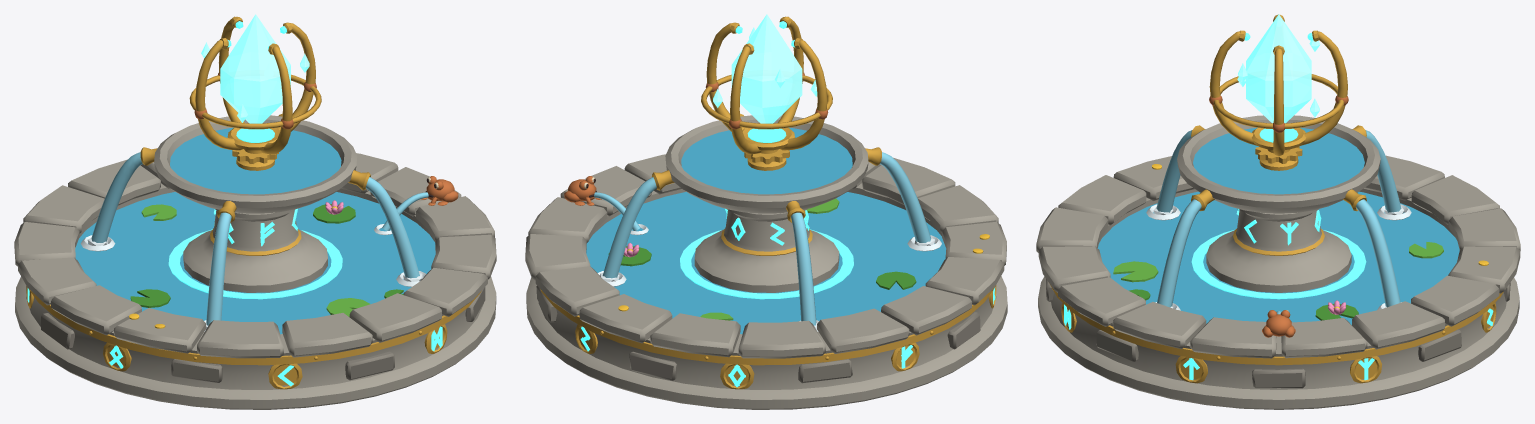
Rendered from prop_fountain.glb.
3 renders of one model, left to right at view 1: azimuth 30°, elevation 25°; view 2: azimuth 150°, elevation 25°; view 3: azimuth 270°, elevation 25°, orthographic.
Visible parts, largest first — view 1: Fountain; view 2: Fountain; view 3: Fountain.
Part boxes in pixels (bbox=[...]): Fountain: bbox=[14, 14, 496, 409]; Fountain: bbox=[525, 14, 1007, 409]; Fountain: bbox=[1036, 14, 1520, 409].
Size of what is drawn, in the model's own units: 5.98 by 4.03 by 5.99.
